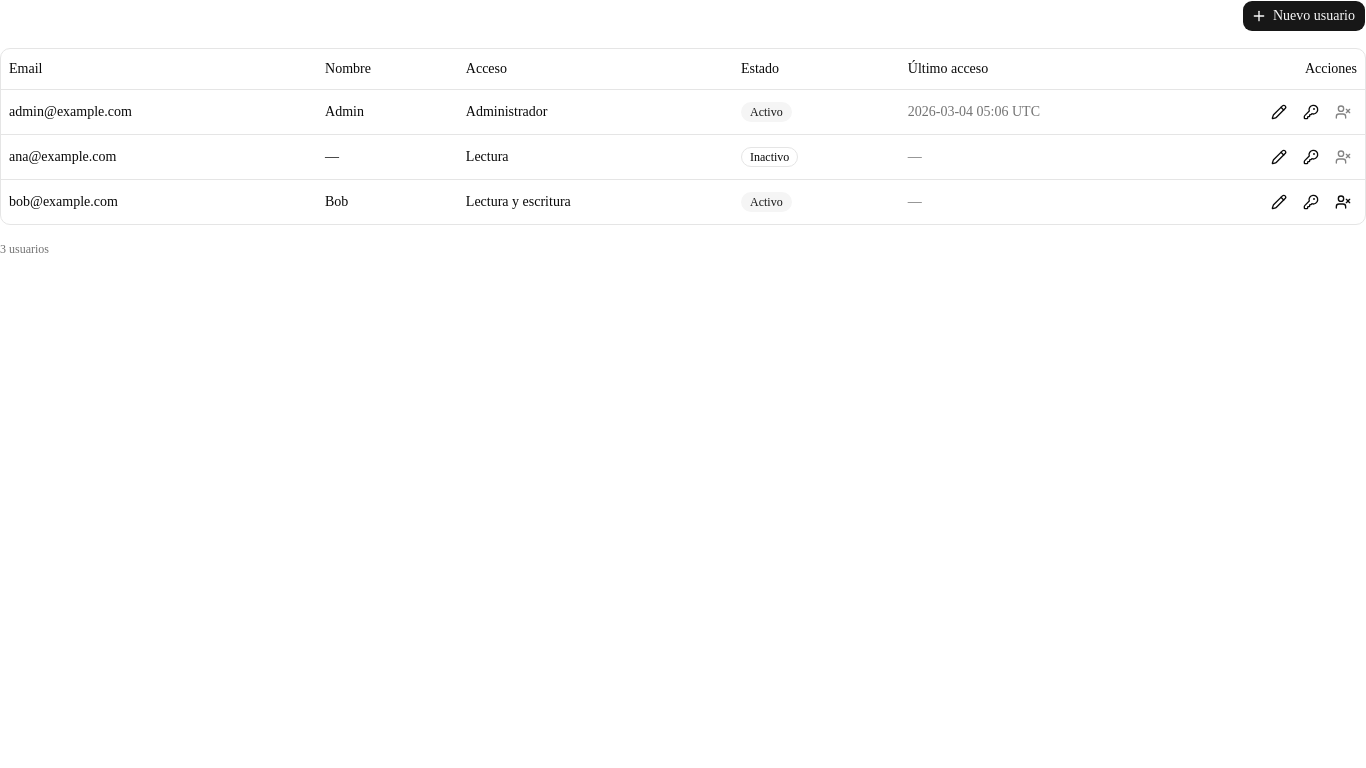
Test: UsersTable › shows the server message when deactivation fails
Step 1. Click the button named "Desactivar bob@example.com" → x=1343, y=202, box top-left (1329, 188), bottom-right (1357, 216)
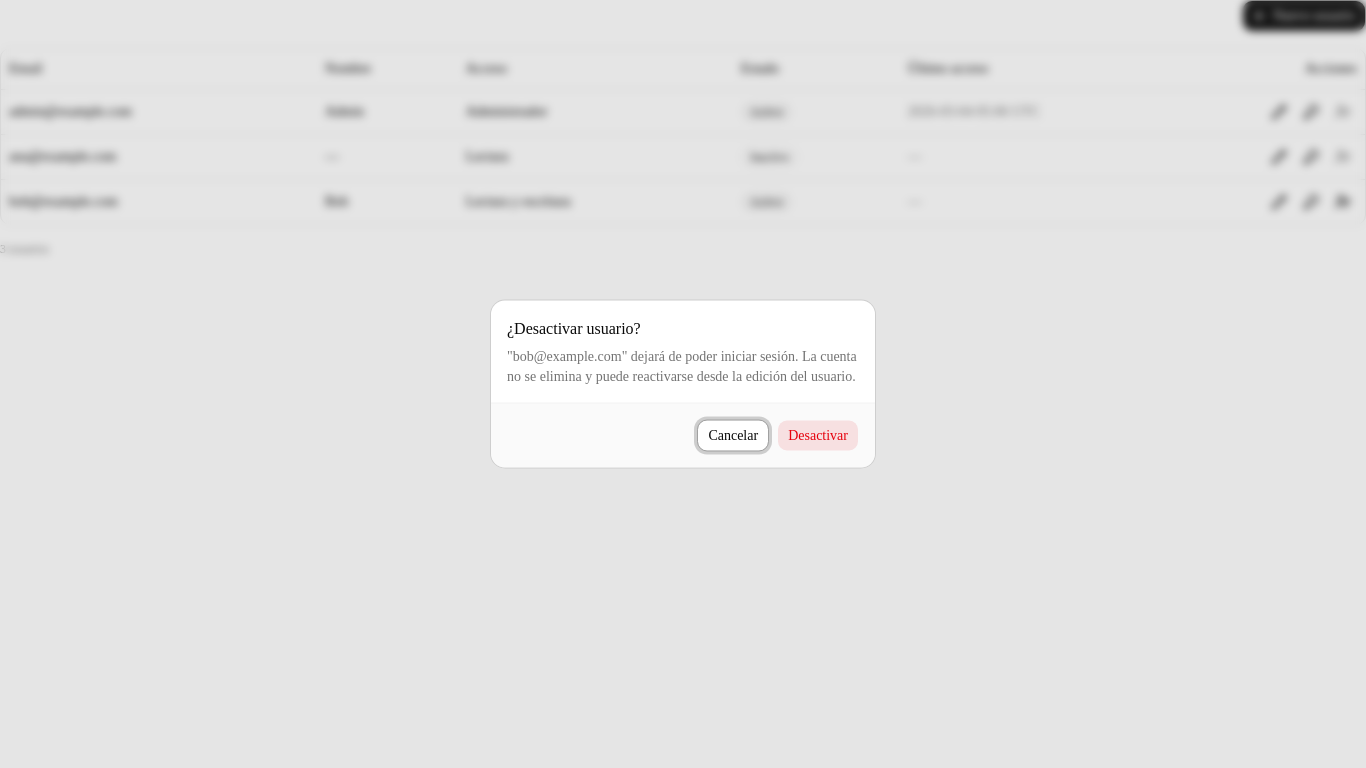
Step 2. Click the button "Desactivar" → x=818, y=436, box top-left (777, 420), bottom-right (859, 452)
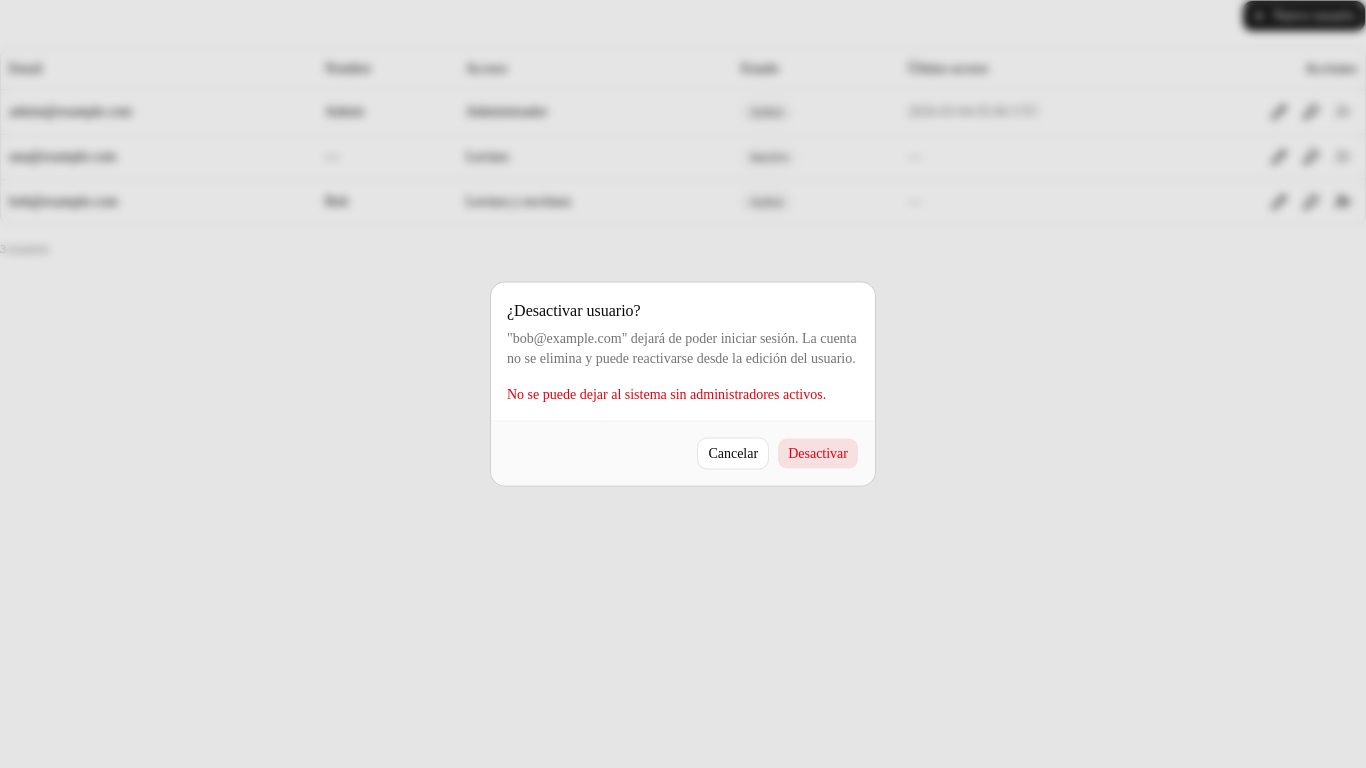
Now the text "No se puede dejar al sistema sin administradores activos." is shown, box top-left (507, 384), bottom-right (859, 404)
